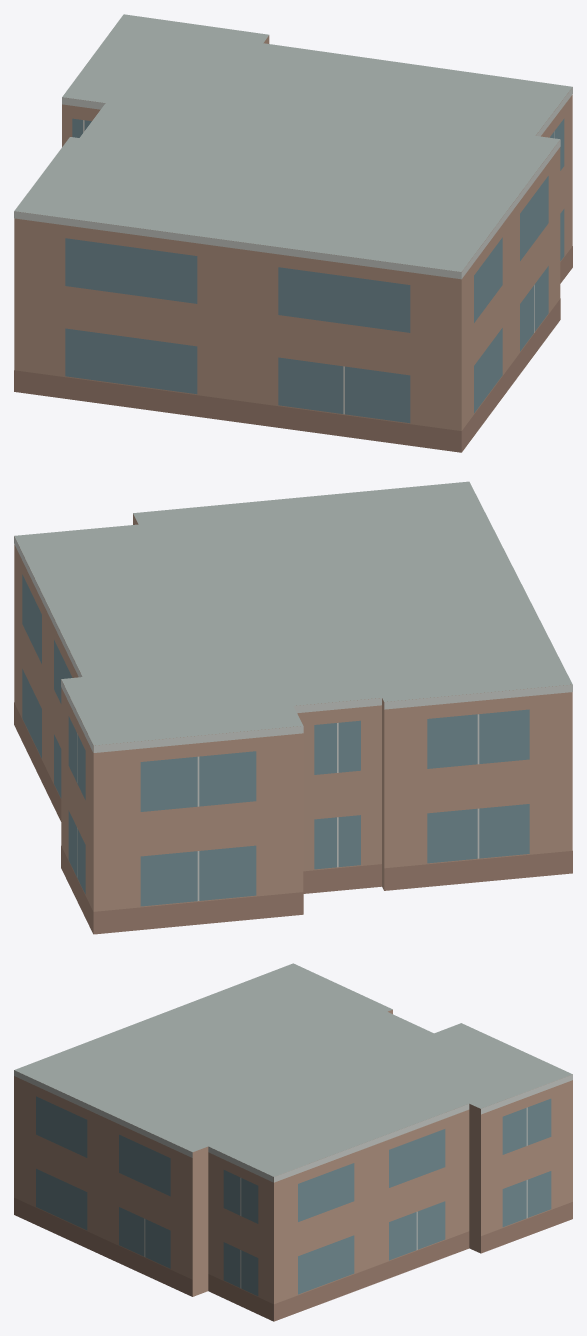
The model's file is survey-upis-32770707.glb.
The picture shows the model from 3 angles, top to bottom: view 1: azimuth 30°, elevation 25°; view 2: azimuth 150°, elevation 25°; view 3: azimuth 270°, elevation 25°; orthographic projection. The views are drawn at different scales.
Parts seen in each view (by area): view 1: survey-upis-32770707.tmp; view 2: survey-upis-32770707.tmp; view 3: survey-upis-32770707.tmp.
Part boxes in pixels (x1,y1,x2,y2): survey-upis-32770707.tmp: (14,14,572,452); survey-upis-32770707.tmp: (14,481,572,934); survey-upis-32770707.tmp: (14,963,572,1321).
Bounding box in the file's own units: 19.33 × 6.1 × 21.36.
